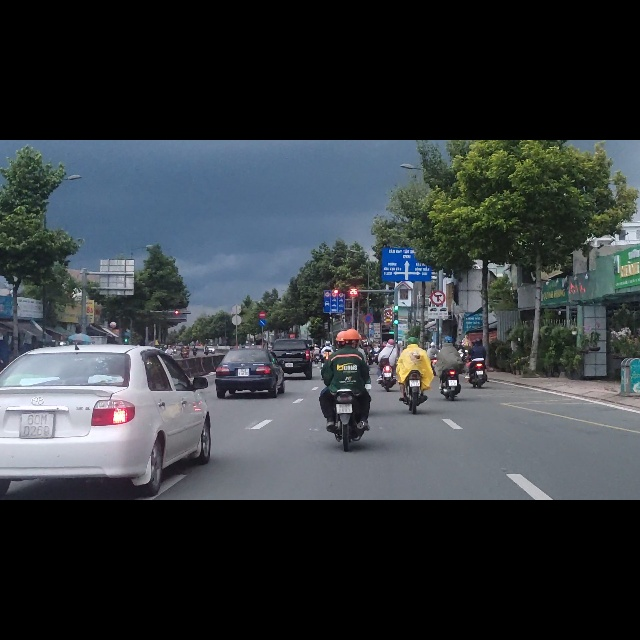bien_hieu_lenh: (324, 279, 344, 308), (430, 268, 446, 294), (365, 310, 373, 325), (259, 305, 266, 317), (259, 319, 266, 331)
